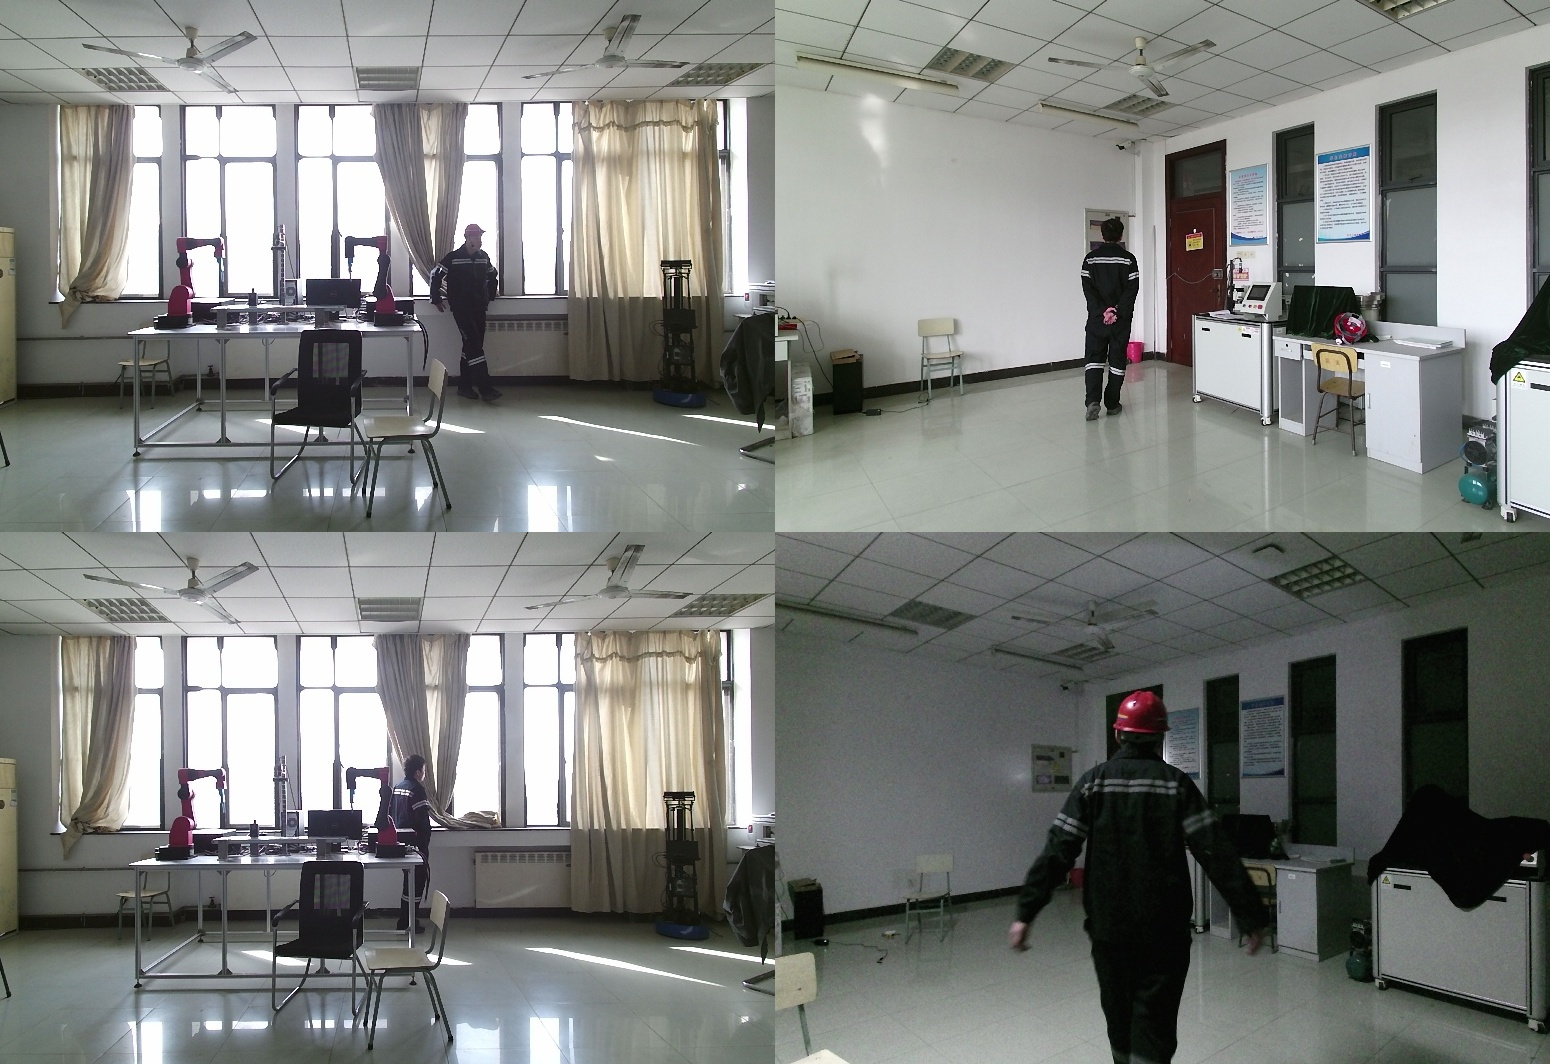person: (1007, 688, 1301, 1064), (433, 226, 516, 406), (1074, 217, 1143, 426), (394, 754, 440, 945)
